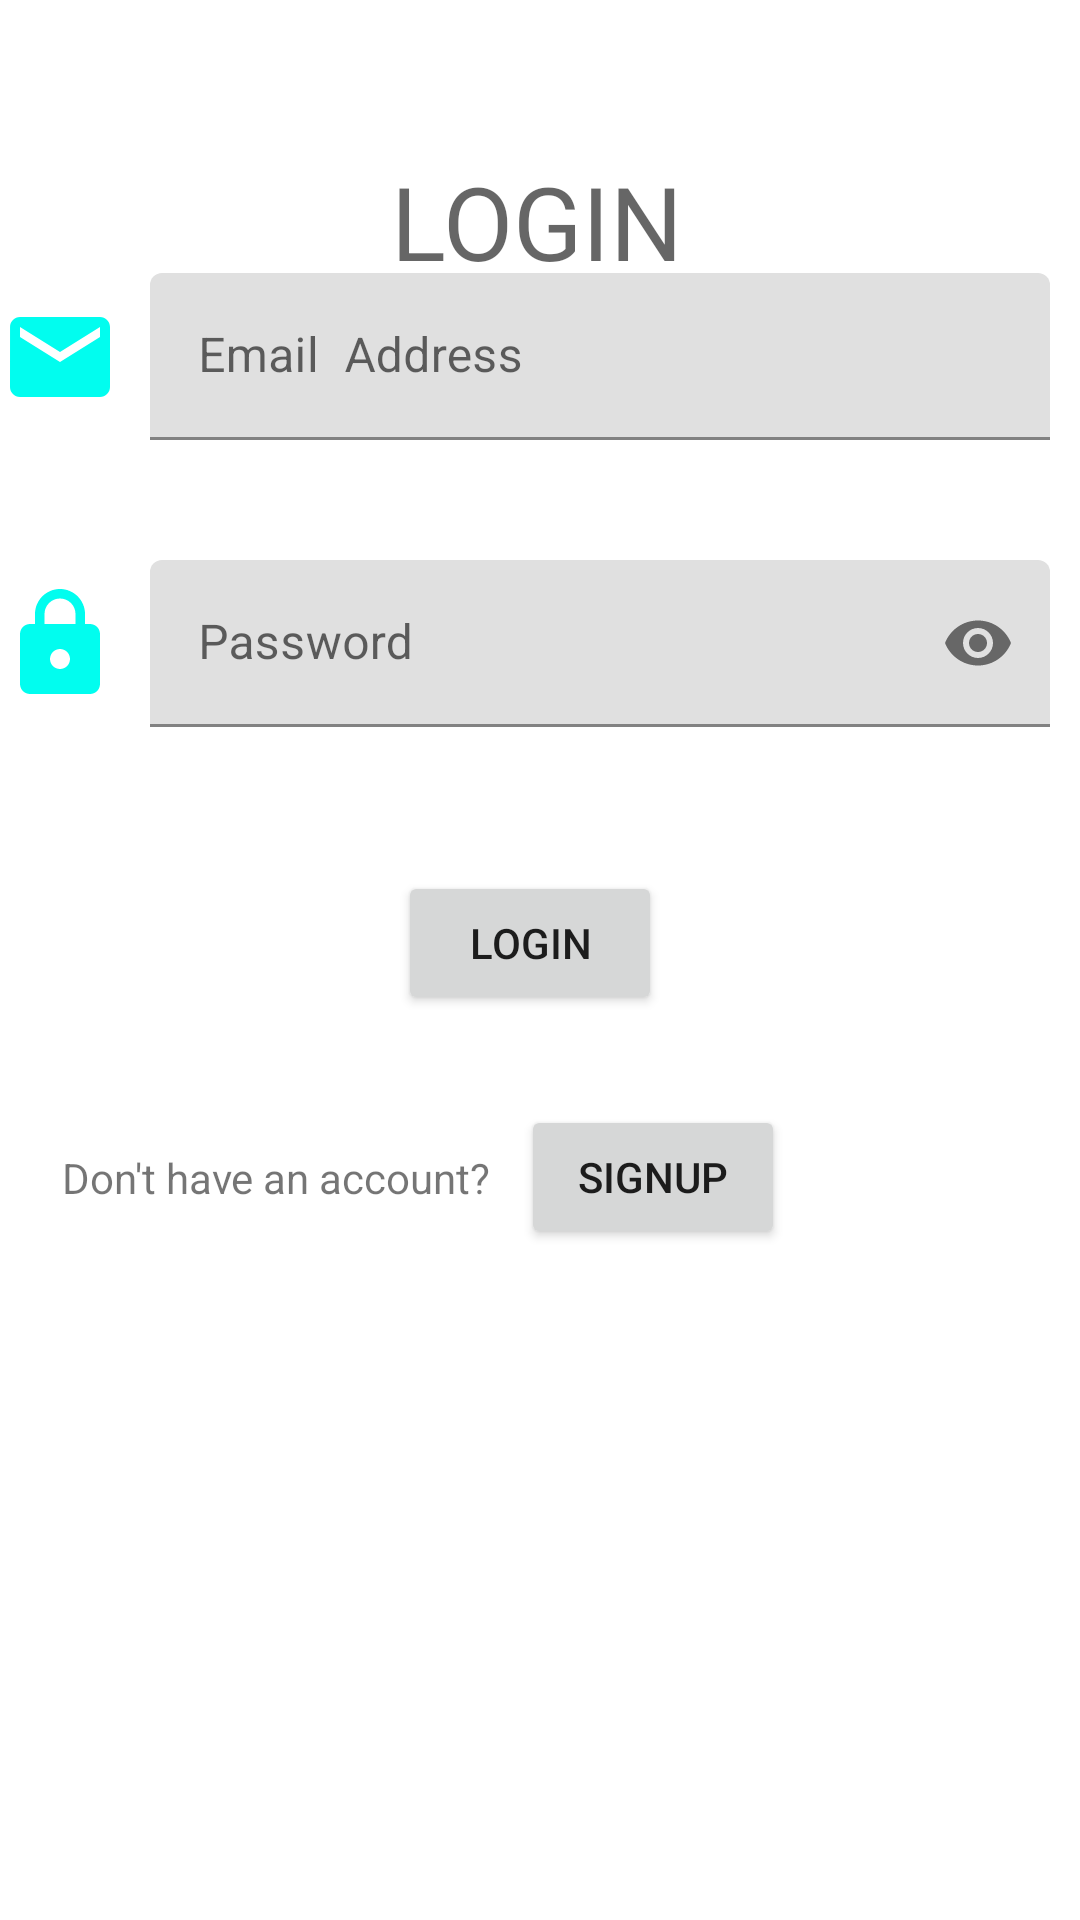

Named icons in this screenshot (1080px×1920px) and their centers, (x=x, y=y):
lock: (x=60, y=641)
